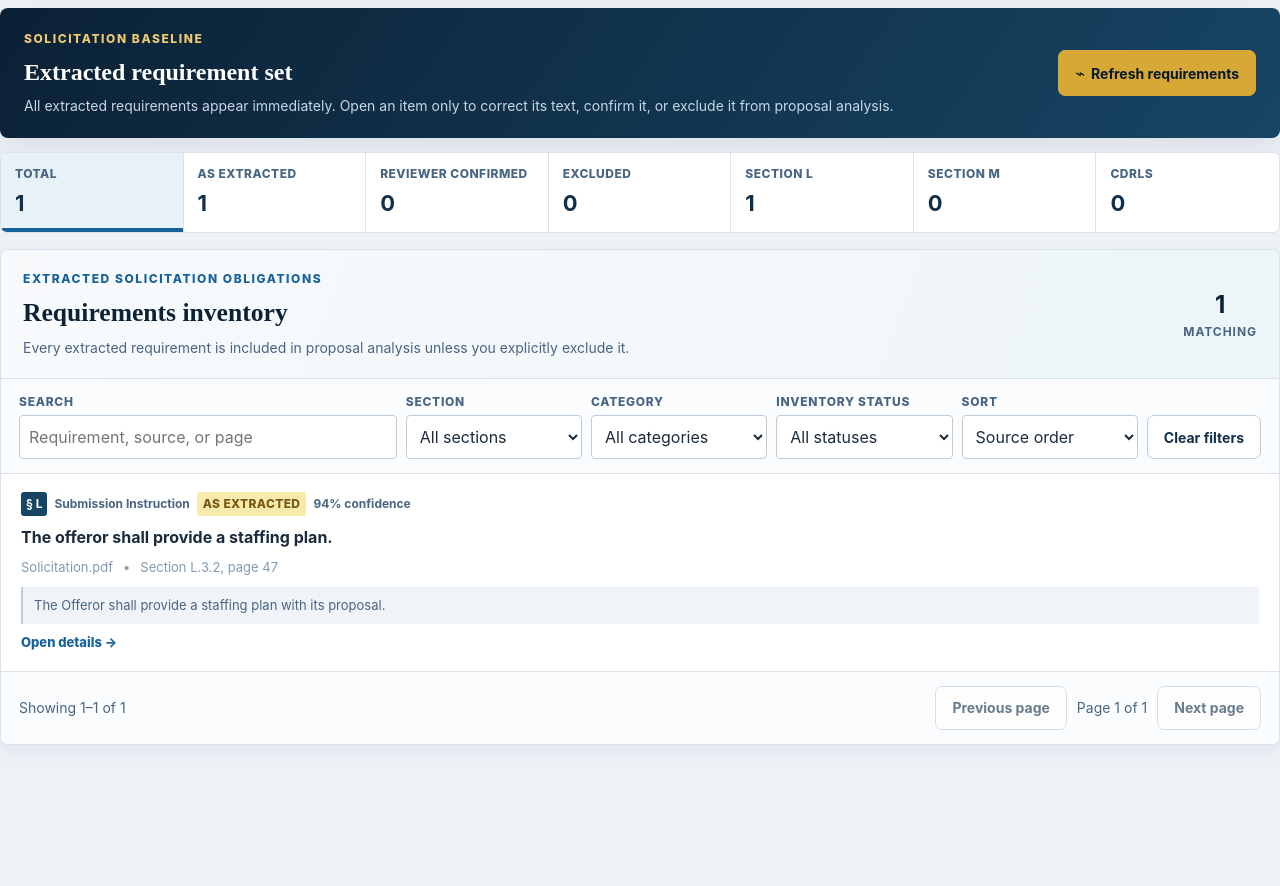
Scenario: RequirementsWorkspace › reloads the current requirement after a stale review conflict
This screenshot has width=1280, height=886.
Click the button named "offeror shall provide a staffing plan" at [640, 573], box left=1, top=474, right=1279, bottom=671
(page scrolled)
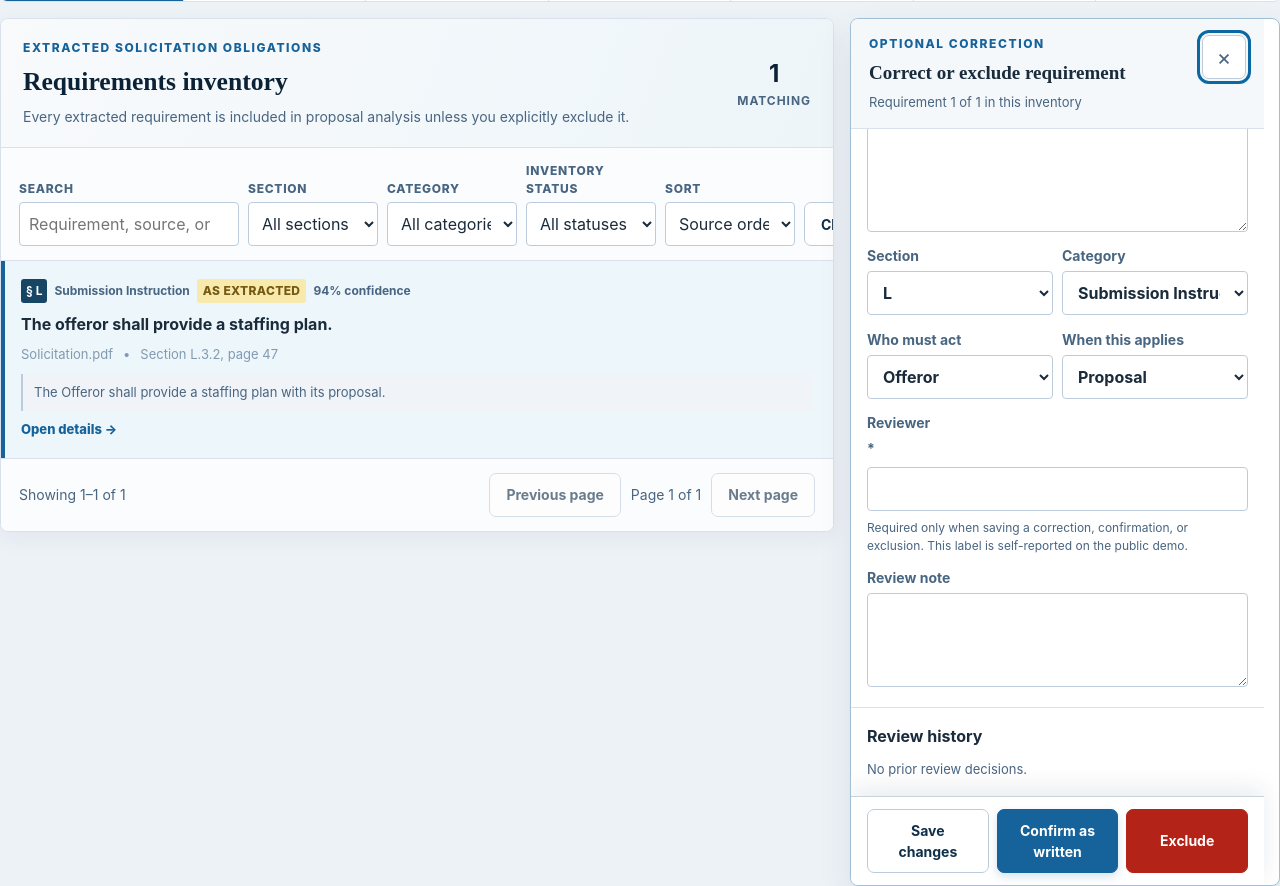
Type "Stale Reviewer" into the field labelled "Reviewer *" at [1058, 489], box left=867, top=467, right=1248, bottom=511
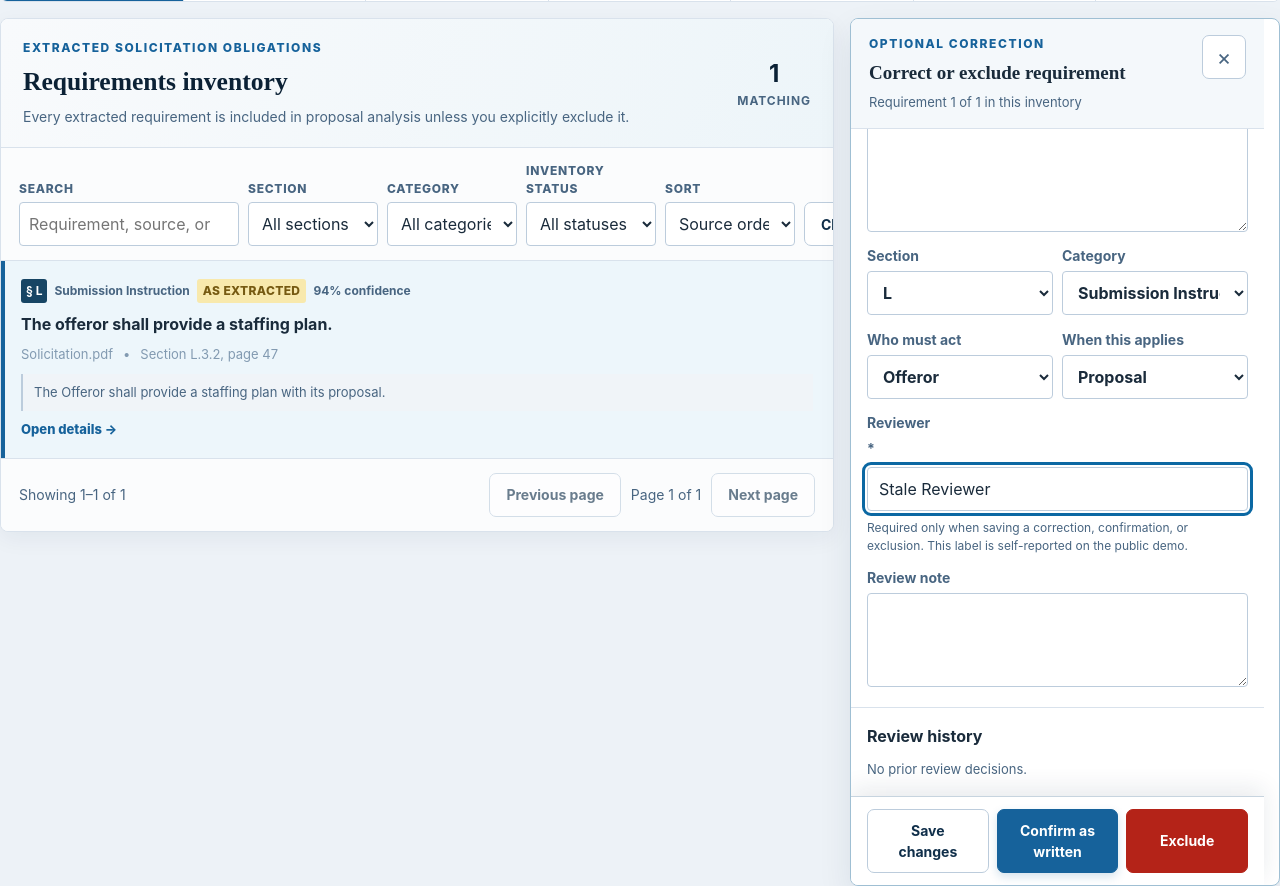
Click the button "Confirm as written" at [1058, 840], box left=997, top=808, right=1118, bottom=872
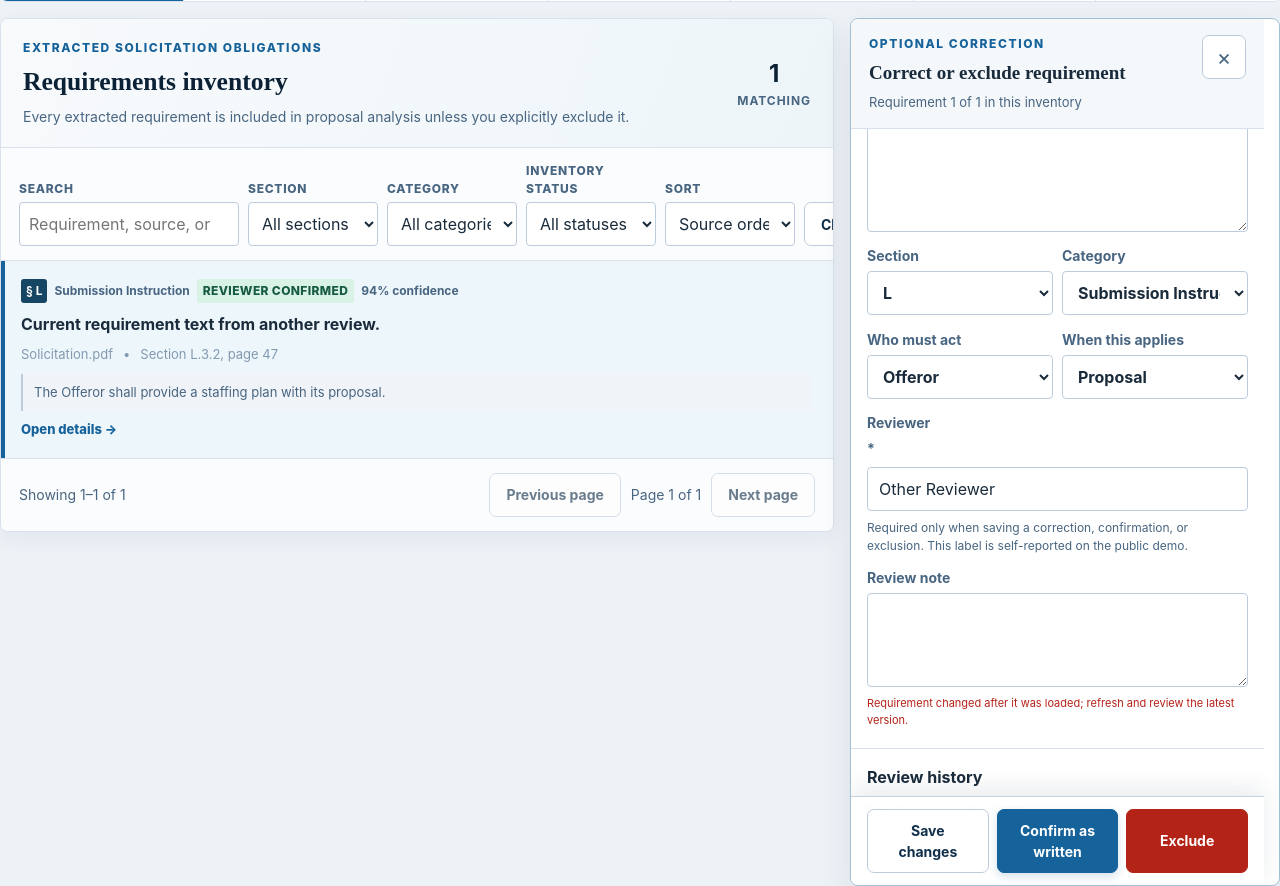
expect the text box labelled "Requirement text *" holds "Current requirement text from another review.": met, box left=867, top=90, right=1248, bottom=232
expect the message shows "refresh and review the latest version": met, box left=867, top=696, right=1234, bottom=726
expect the field labelled "Reviewer *" holds "Other Reviewer": met, box left=867, top=467, right=1248, bottom=511
